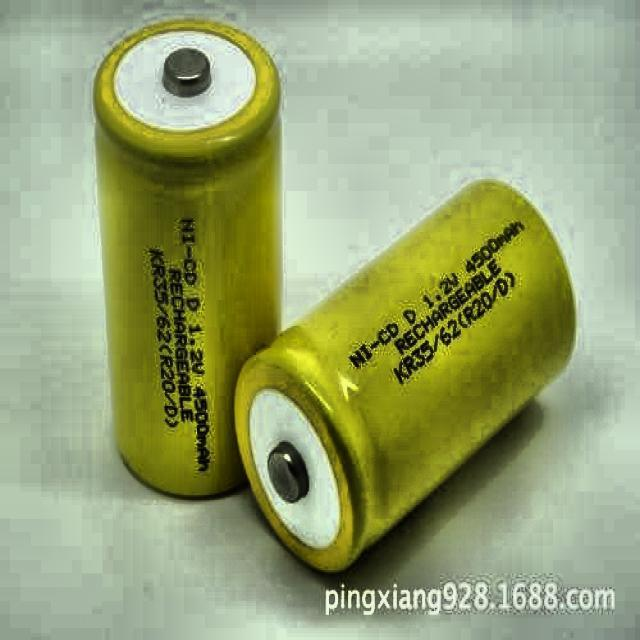battery: (236, 182, 575, 572), (95, 20, 279, 496)
